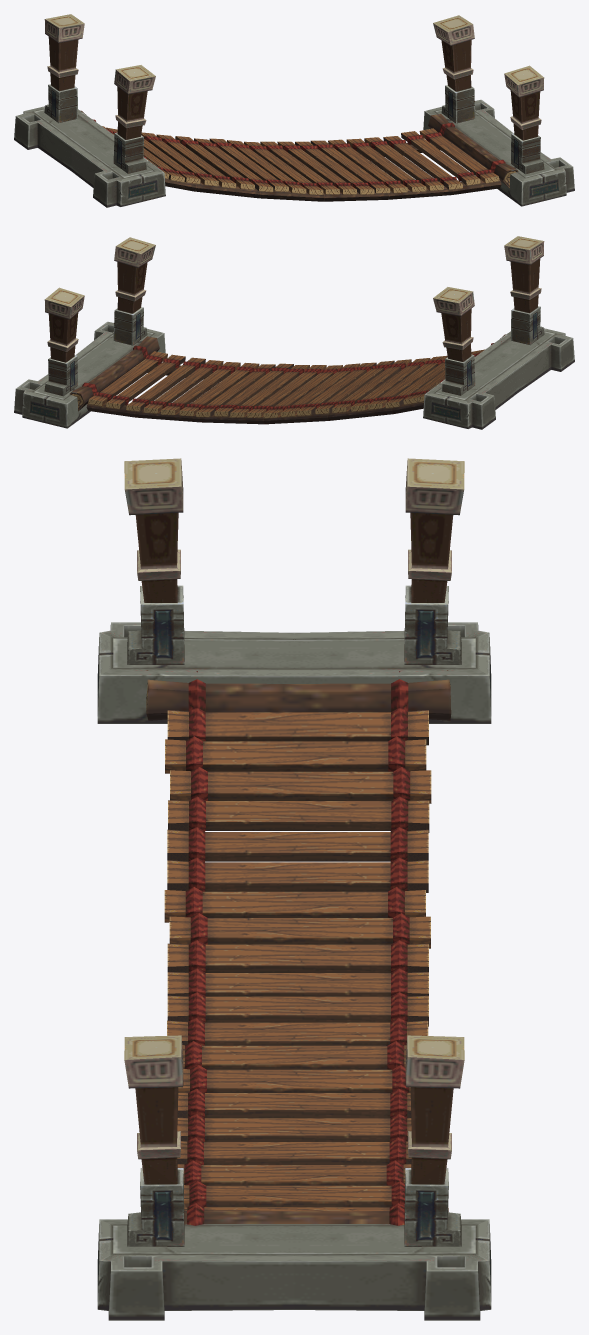
The model's file is cs_lobbynew02_wujian_zhiji_muqiao.FBX.
The picture shows the model from 3 angles, top to bottom: view 1: azimuth 30°, elevation 25°; view 2: azimuth 150°, elevation 25°; view 3: azimuth 270°, elevation 25°; orthographic projection. The views are drawn at different scales.
Visible parts, largest first — view 1: cs_lobbynew02_wujian_zhiji_muqiao; view 2: cs_lobbynew02_wujian_zhiji_muqiao; view 3: cs_lobbynew02_wujian_zhiji_muqiao.
Part boxes in pixels (x1,y1,x2,y2): cs_lobbynew02_wujian_zhiji_muqiao: (14,14,574,207); cs_lobbynew02_wujian_zhiji_muqiao: (14,236,574,429); cs_lobbynew02_wujian_zhiji_muqiao: (97,458,491,1320).
Size of the model in its own units: 1269 by 462 by 559.
